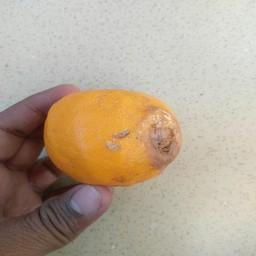Bad_orange: (40, 85, 187, 187)
